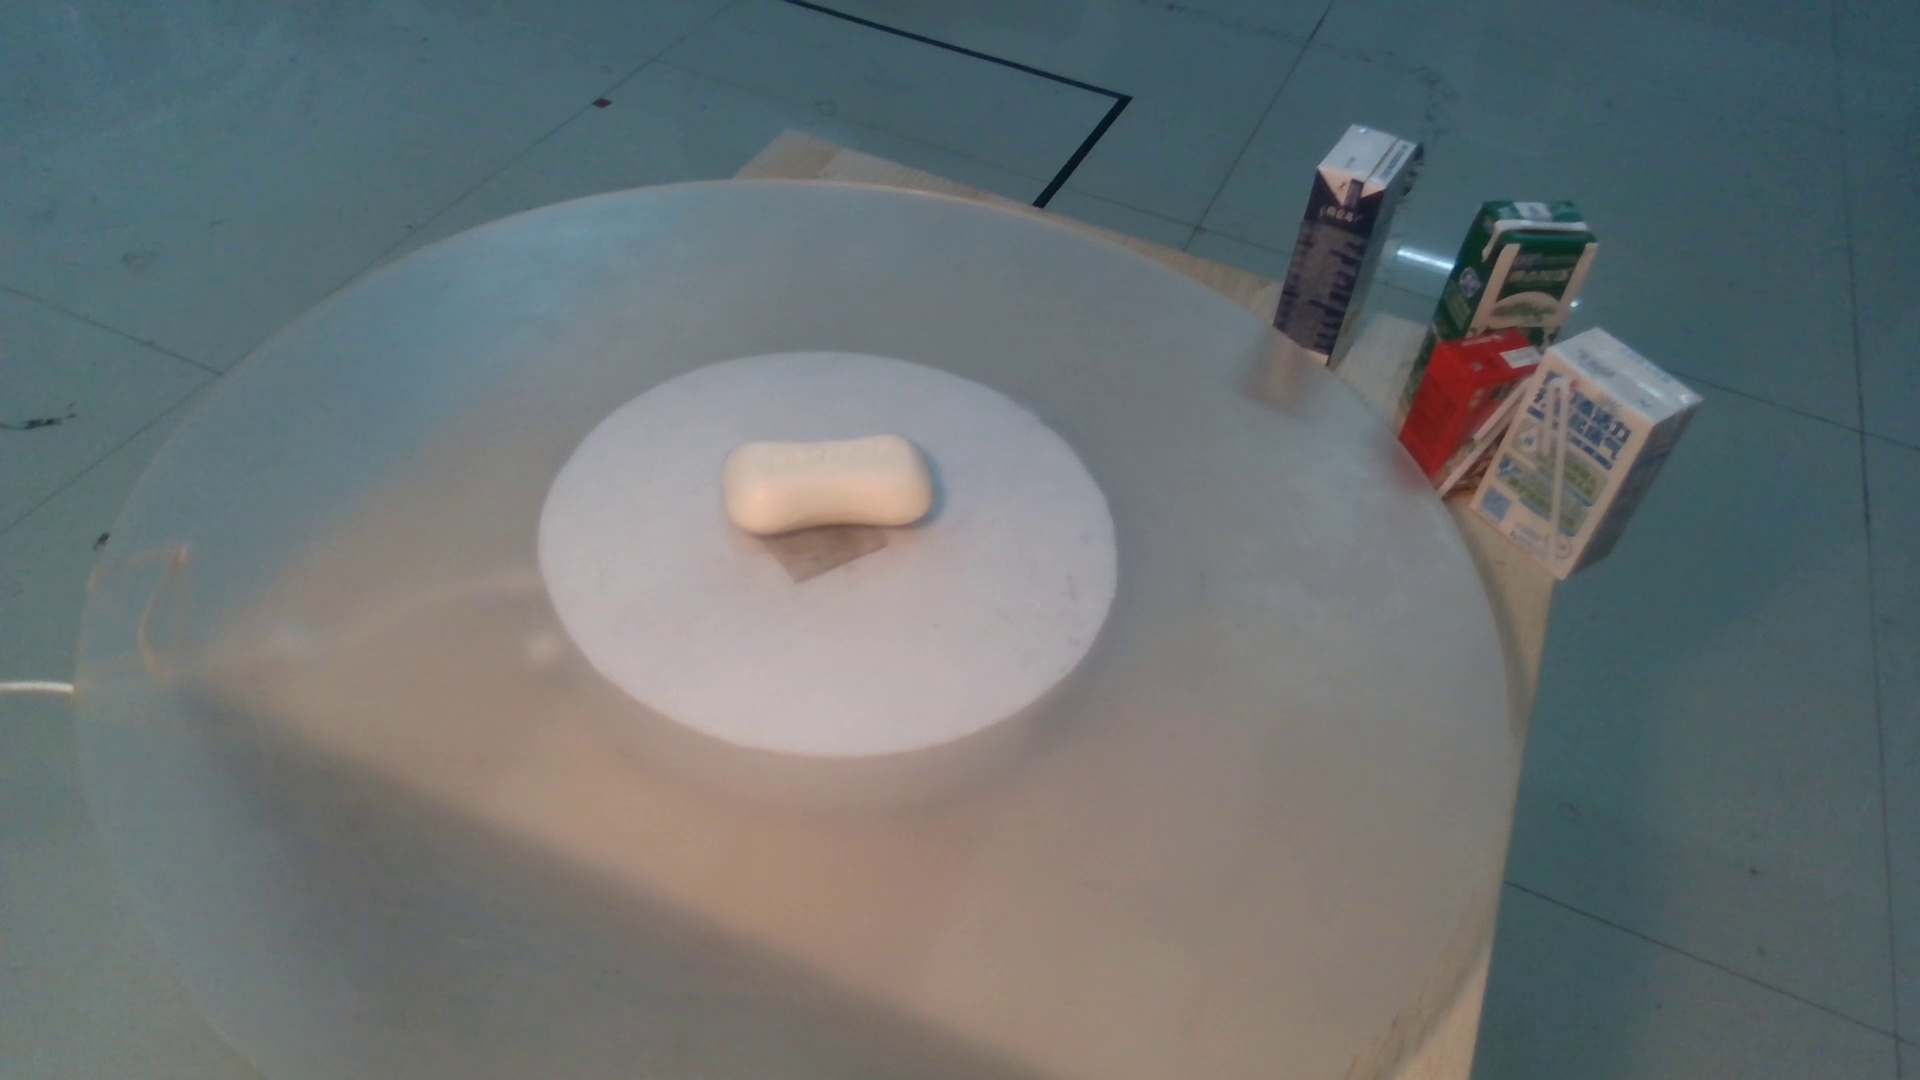CA003_1: (702, 400, 953, 595)
